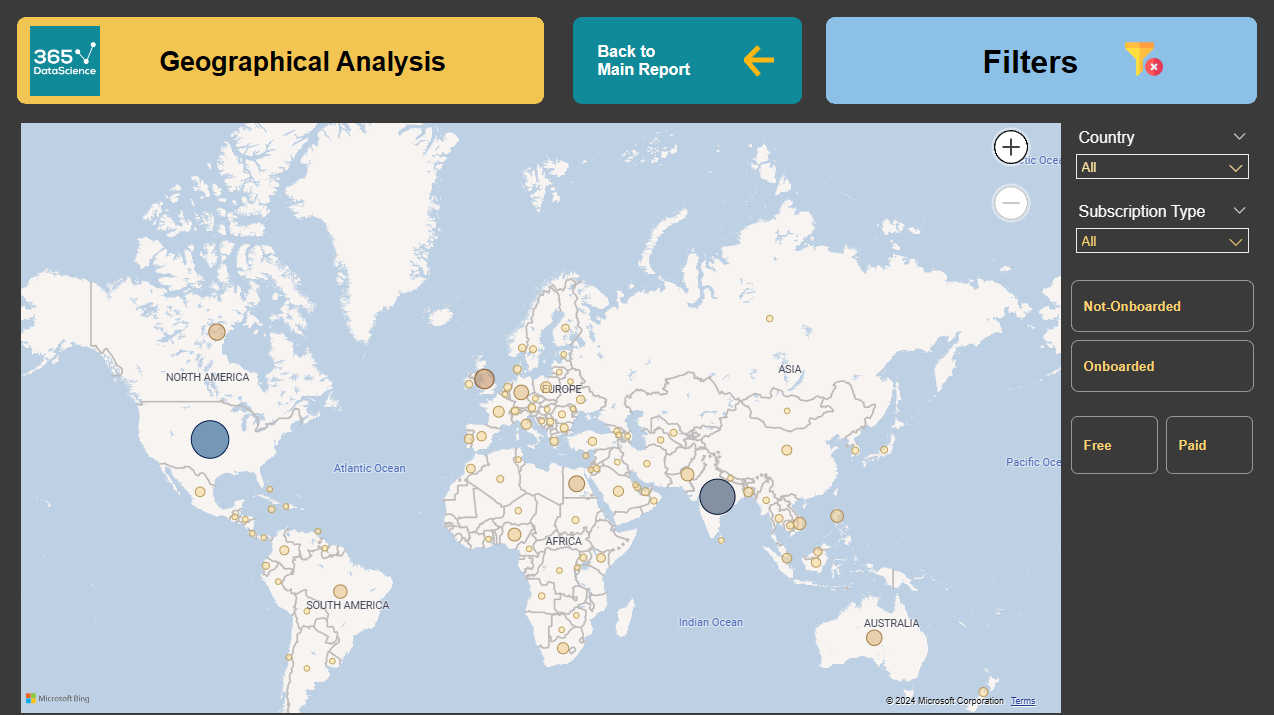

This screenshot's page, from the dashboard's own definition file:
{"tool":"powerbi","page":{"name":"Geographic Analysis","canvas":[1280,720],"ordinal":1},"visuals":[{"type":"map","title":"Members by Countries","fields":{"Category":["data_visualization.onboarding_country"],"Size":["CountNonNull(data_visualization.onboarding_country)"]},"box":[19,120,1050,600],"z":0},{"type":"group","id":"g1","title":"Group 3","box":[20,19,527,87],"z":2000},{"type":"group","id":"g2","title":"Group 5","box":[828.6,18.6,431.4,87.1],"z":3000},{"type":"shape","box":[576,19,229,87],"z":4000},{"type":"textbox","box":[596,40,115,49],"z":5000},{"type":"actionButton","box":[743,43,62,40],"z":6000},{"type":"shape","box":[828.6,18.6,431.4,87.1],"z":7000,"group":"g2"},{"type":"shape","box":[20,19,527,87],"z":7000,"group":"g1"},{"type":"textbox","box":[981,41,127,47],"z":8000,"group":"g2"},{"type":"advancedSlicerVisual","fields":{"Values":["data_visualization.user_paid"]},"box":[1069,413,193,68],"z":8000},{"type":"image","box":[20,22.9,97.1,80],"z":9000,"group":"g1"},{"type":"image","box":[1122.4,35.1,47.9,50],"z":9000,"group":"g2"},{"type":"textbox","box":[141,44,330,42],"z":10000,"group":"g1"},{"type":"advancedSlicerVisual","title":"Onboarded","fields":{"Values":["data_visualization.onboarded"]},"box":[1069,277,193,123],"z":11000},{"type":"slicer","fields":{"Values":["data_visualization.subscription_type"]},"box":[1069,200,193,62],"z":12000},{"type":"slicer","fields":{"Values":["data_visualization.onboarding_country"]},"box":[1069,126,193,58],"z":19000}]}

Visuals, with their boxes in screenshot pixels (x1, y1, x2, y2), scaled from the page's 1280x720 canvas onto the 1274x715 screenshot:
"Members by Countries" map: [19,119,1064,714]
"Group 3" group: [20,19,544,105]
"Group 5" group: [825,18,1254,105]
shape: [573,19,801,105]
textbox: [593,40,708,88]
actionButton: [740,43,801,82]
shape: [825,18,1254,105]
shape: [20,19,544,105]
textbox: [976,41,1103,87]
advancedSlicerVisual - data_visualization.user_paid: [1064,410,1256,478]
image: [20,23,117,102]
image: [1117,35,1165,85]
textbox: [140,44,469,85]
"Onboarded" advancedSlicerVisual: [1064,275,1256,397]
slicer - data_visualization.subscription_type: [1064,199,1256,260]
slicer - data_visualization.onboarding_country: [1064,125,1256,183]
